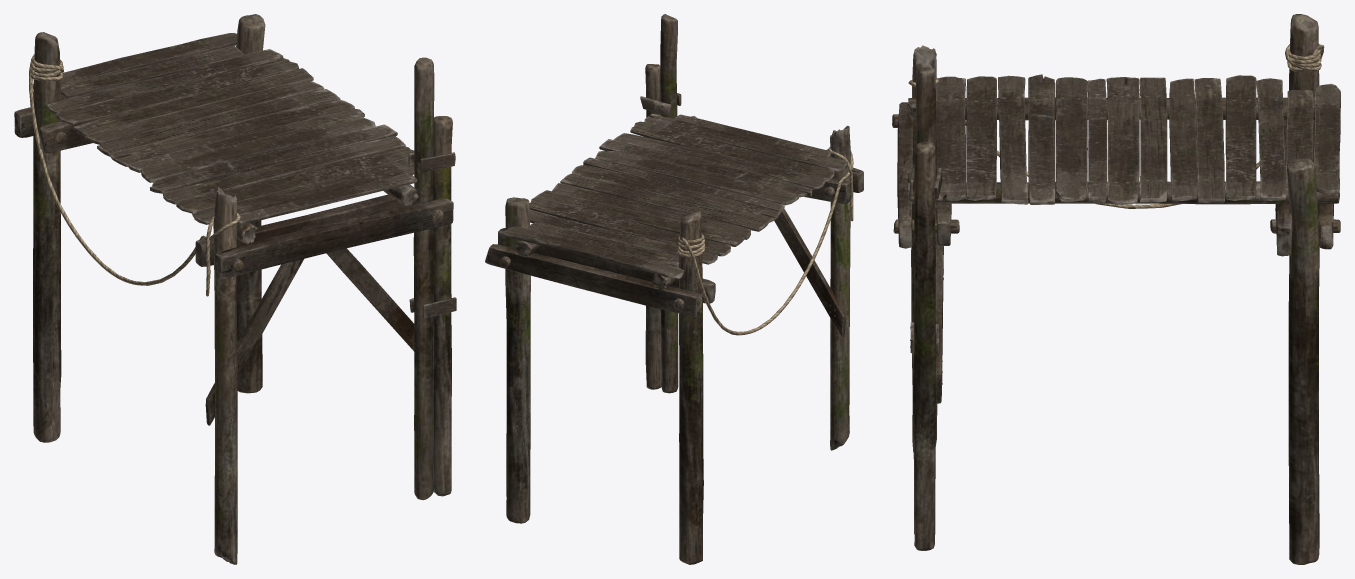
Rendered from pier_a.glb.
3 views of the same model, side by side, from view 1: azimuth 30°, elevation 25°; view 2: azimuth 150°, elevation 25°; view 3: azimuth 270°, elevation 25° (orthographic). The views are drawn at different scales.
Parts seen in each view (by area): view 1: modular_wooden_pier_section_01; view 2: modular_wooden_pier_section_01; view 3: modular_wooden_pier_section_01.
Part boxes in pixels (left/top/right/bottom): modular_wooden_pier_section_01: left=14, top=14, right=456, bottom=564; modular_wooden_pier_section_01: left=485, top=14, right=863, bottom=564; modular_wooden_pier_section_01: left=892, top=14, right=1340, bottom=564.
Bounding box in the file's own units: 2.49 × 4.26 × 3.52.
Materials: 2 (2 with a texture image).
